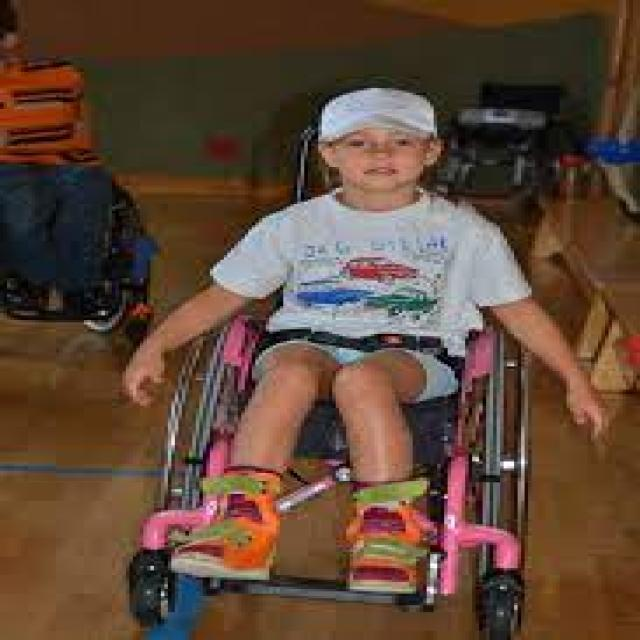wheelchairs: (132, 295, 536, 635), (0, 159, 168, 342)
